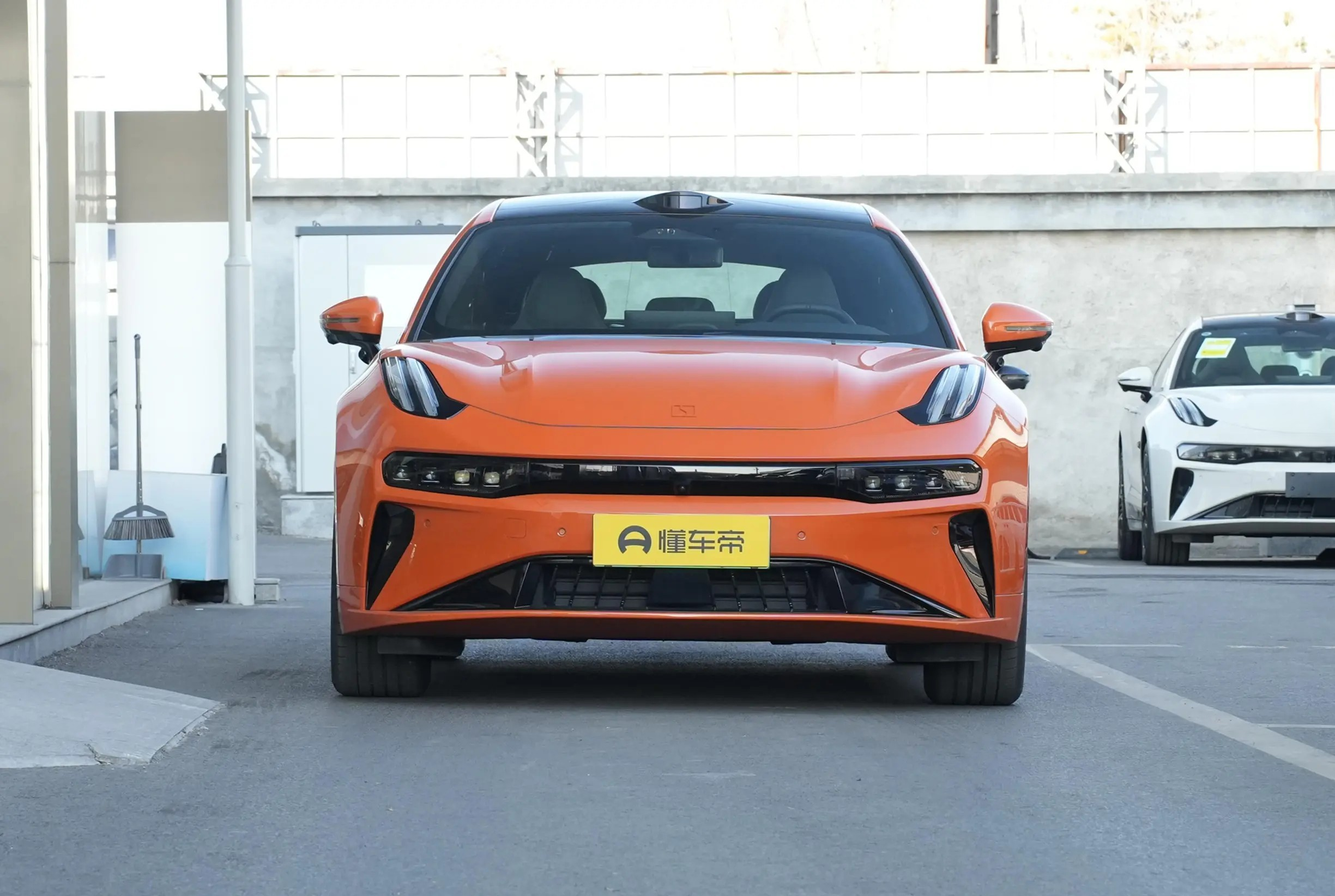ZEEKR: (670, 404, 696, 417)
